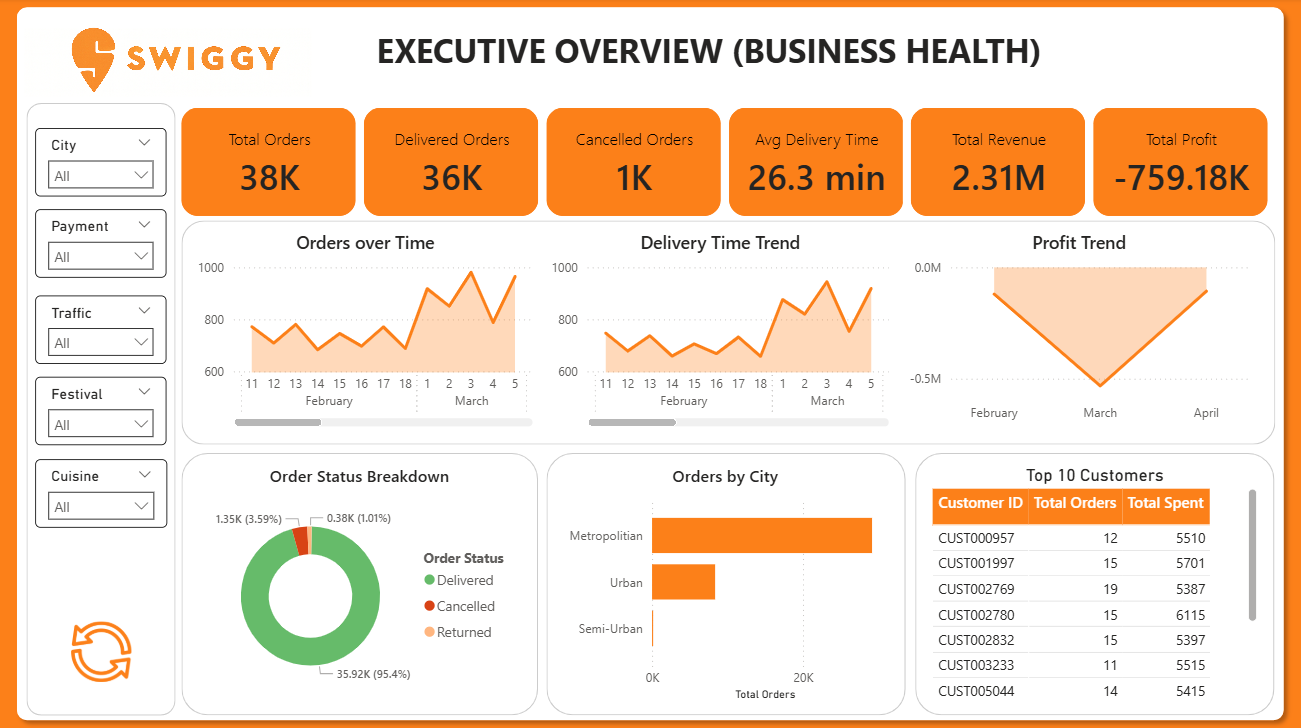

This screenshot's page, from the dashboard's own definition file:
{"tool":"powerbi","page":{"name":"Executive Overview","canvas":[1280,720],"ordinal":0},"visuals":[{"type":"shape","box":[8.6,0,1261.4,718],"z":0},{"type":"shape","box":[27.5,102.5,146.2,601.2],"z":0,"group":"g1"},{"type":"image","box":[19.6,24.5,292,77.3],"z":1000},{"type":"slicer","fields":{"Values":["swiggy_cleaned_data.City"]},"box":[36.3,127.5,129,67.5],"z":1000,"group":"g1"},{"type":"textbox","box":[311.7,24.5,770.6,54],"z":2000},{"type":"slicer","fields":{"Values":["swiggy_cleaned_data.Payment_Method"]},"box":[36.3,206.3,129,67.5],"z":2000,"group":"g1"},{"type":"cardVisual","fields":{"Data":["swiggy_cleaned_data.total_orders","swiggy_cleaned_data.delivered_orders","swiggy_cleaned_data.cancelled_orders","swiggy_cleaned_data.average_delivery_time","swiggy_cleaned_data.total_revenue","swiggy_cleaned_data.total_profit"]},"box":[173.6,102.9,1079.1,116.6],"z":3000},{"type":"slicer","fields":{"Values":["swiggy_cleaned_data.Road_traffic_density"]},"box":[36.3,291.3,129,67.5],"z":3000,"group":"g1"},{"type":"shape","box":[178.8,218.8,1073.8,220],"z":4000},{"type":"slicer","fields":{"Values":["swiggy_cleaned_data.Festival"]},"box":[36.3,371.3,129,67.5],"z":4000,"group":"g1"},{"type":"lineChart","title":"Orders over Time","fields":{"Y":["swiggy_cleaned_data.total_orders"],"Category":["swiggy_cleaned_data.Order_Date.Variation.Date Hierarchy.Month","swiggy_cleaned_data.Order_Date.Variation.Date Hierarchy.Day"]},"box":[190,228.8,338.8,197.5],"z":5000},{"type":"image","box":[36.3,606.3,130,68.8],"z":5000,"group":"g1"},{"type":"lineChart","title":"Delivery Time Trend","fields":{"Category":["swiggy_cleaned_data.Order_Date.Variation.Date Hierarchy.Month","swiggy_cleaned_data.Order_Date.Variation.Date Hierarchy.Day"],"Y":["swiggy_cleaned_data.delivered_orders"]},"box":[537.5,228.8,341.2,197.5],"z":6000},{"type":"slicer","fields":{"Values":["swiggy_cleaned_data.Cuisine"]},"box":[36.7,452,129.3,67.3],"z":6000,"group":"g1"},{"type":"lineChart","title":"Profit Trend","fields":{"Category":["swiggy_cleaned_data.Order_Date.Variation.Date Hierarchy.Month"],"Y":["swiggy_cleaned_data.total_profit"]},"box":[888.8,228.8,343.8,197.5],"z":7000},{"type":"shape","box":[178.8,446.2,350,257.5],"z":8000},{"type":"donutChart","title":"Order Status Breakdown","fields":{"Category":["swiggy_cleaned_data.Order_Status"],"Y":["CountNonNull(swiggy_cleaned_data.Order_Status)"]},"box":[190,457.5,327.5,237.5],"z":9000},{"type":"shape","box":[537.5,446.2,352.5,257.5],"z":10000},{"type":"shape","box":[900,446.2,352.5,257.5],"z":11000},{"type":"clusteredBarChart","title":"Orders by City","fields":{"Y":["swiggy_cleaned_data.total_orders"],"Category":["swiggy_cleaned_data.City"]},"box":[547.5,457.5,331.2,237.5],"z":12000},{"type":"pivotTable","title":"Top 10 Customers","fields":{"Rows":["swiggy_cleaned_data.Customer_ID"],"Values":["swiggy_cleaned_data.total_orders","swiggy_cleaned_data.total_spent"]},"box":[911.2,457.5,328,237.5],"z":13000},{"type":"group","id":"g1","title":"Slicers","box":[27.5,102.5,146.2,601.2],"z":14000}]}

Visuals, with their boxes in screenshot pixels (x1, y1, x2, y2), scaled from the page's 1280x720 canvas onto the 1301x728 screenshot:
shape: bbox(9, 0, 1291, 726)
shape: bbox(28, 104, 177, 712)
image: bbox(20, 25, 317, 103)
slicer - swiggy_cleaned_data.City: bbox(37, 129, 168, 197)
textbox: bbox(317, 25, 1100, 79)
slicer - swiggy_cleaned_data.Payment_Method: bbox(37, 209, 168, 277)
cardVisual - swiggy_cleaned_data.total_orders x swiggy_cleaned_data.delivered_orders: bbox(176, 104, 1273, 222)
slicer - swiggy_cleaned_data.Road_traffic_density: bbox(37, 295, 168, 363)
shape: bbox(182, 221, 1273, 444)
slicer - swiggy_cleaned_data.Festival: bbox(37, 375, 168, 444)
"Orders over Time" lineChart: bbox(193, 231, 537, 431)
image: bbox(37, 613, 169, 683)
"Delivery Time Trend" lineChart: bbox(546, 231, 893, 431)
slicer - swiggy_cleaned_data.Cuisine: bbox(37, 457, 169, 525)
"Profit Trend" lineChart: bbox(903, 231, 1253, 431)
shape: bbox(182, 451, 537, 712)
"Order Status Breakdown" donutChart: bbox(193, 463, 526, 703)
shape: bbox(546, 451, 905, 712)
shape: bbox(915, 451, 1273, 712)
"Orders by City" clusteredBarChart: bbox(556, 463, 893, 703)
"Top 10 Customers" pivotTable: bbox(926, 463, 1260, 703)
"Slicers" group: bbox(28, 104, 177, 712)
